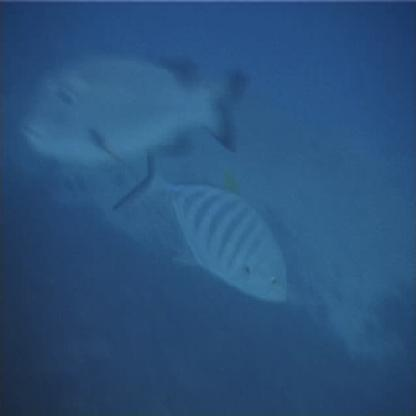Carangidae -Jacks-: (111, 149, 290, 315)
